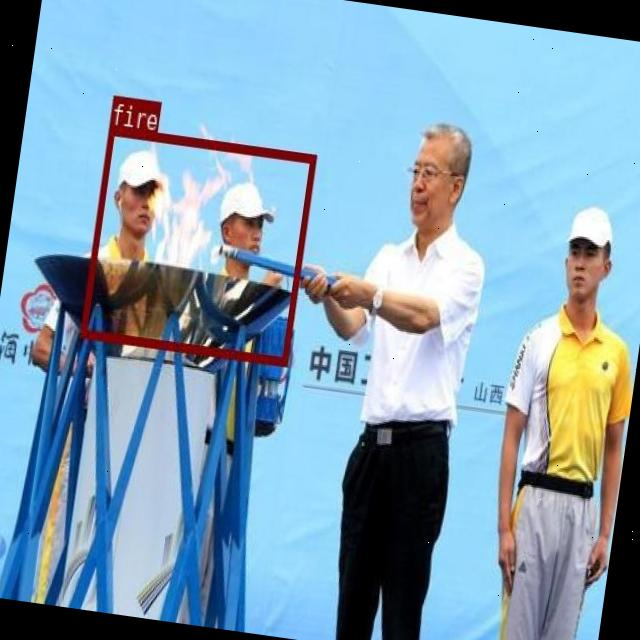fire: (78, 124, 315, 366)
